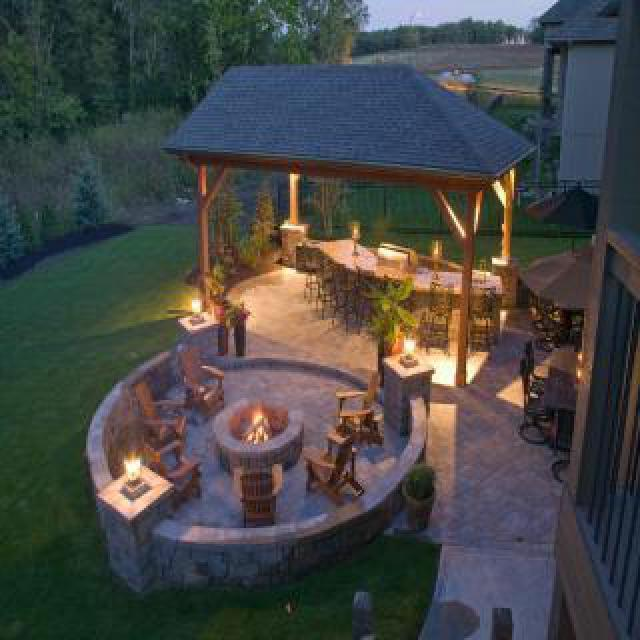Fire: (238, 404, 278, 454)
